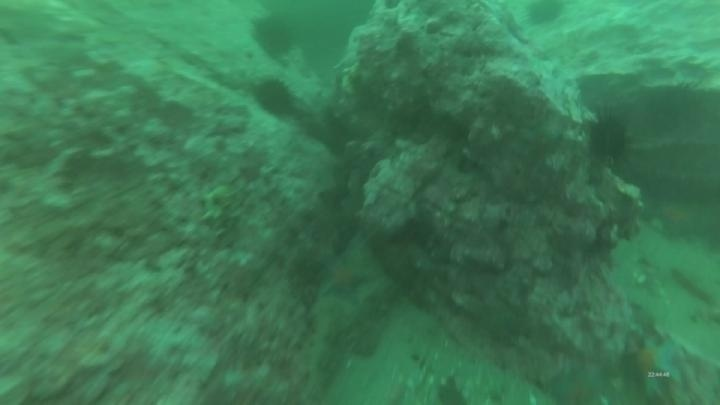echinus: (584, 110, 633, 164), (249, 12, 298, 62), (251, 76, 297, 121), (523, 0, 567, 28)
holothurian: (299, 299, 347, 404), (341, 283, 394, 360), (197, 180, 240, 237)
starfish: (619, 333, 687, 401), (313, 244, 373, 303), (543, 361, 614, 405), (651, 197, 702, 242)
